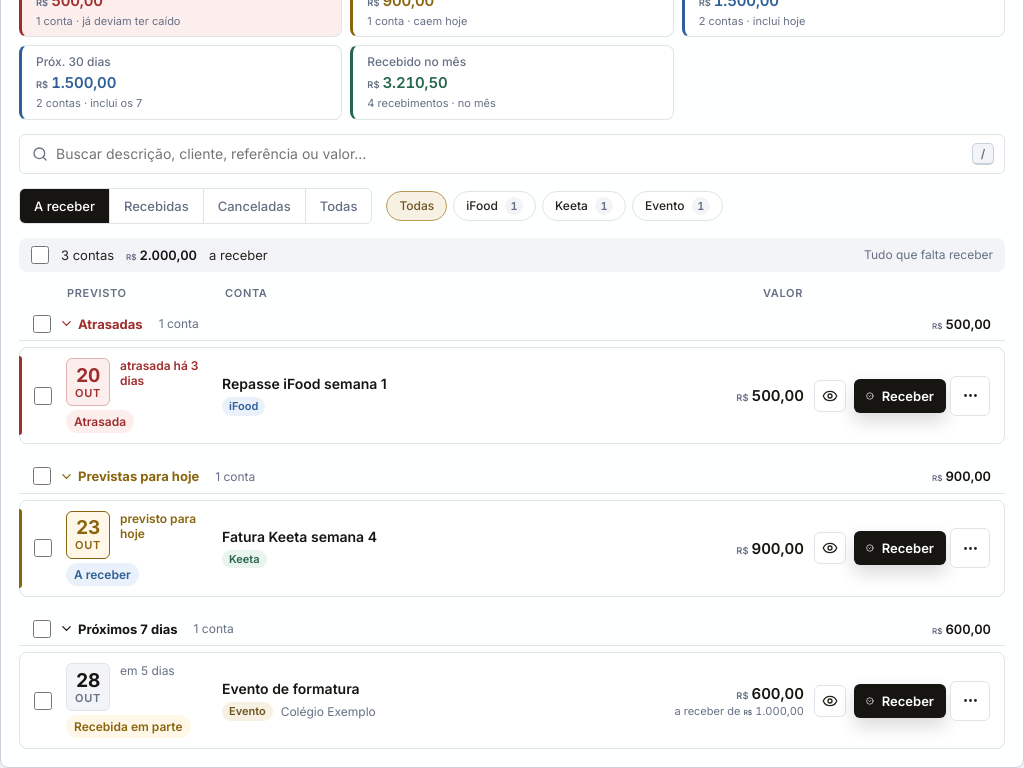
Test: Contas a Receber — registrar recebimento › a janela vem com o saldo, registra e recarrega a lista
(page scrolled)
expect the text "Evento de formatura" is shown: met, box x1=222 y1=680 x2=360 y2=697
Step 1. Click the button with aria-label "Receber Evento de formatura" → (900, 701), box x1=854 y1=684 x2=946 y2=718
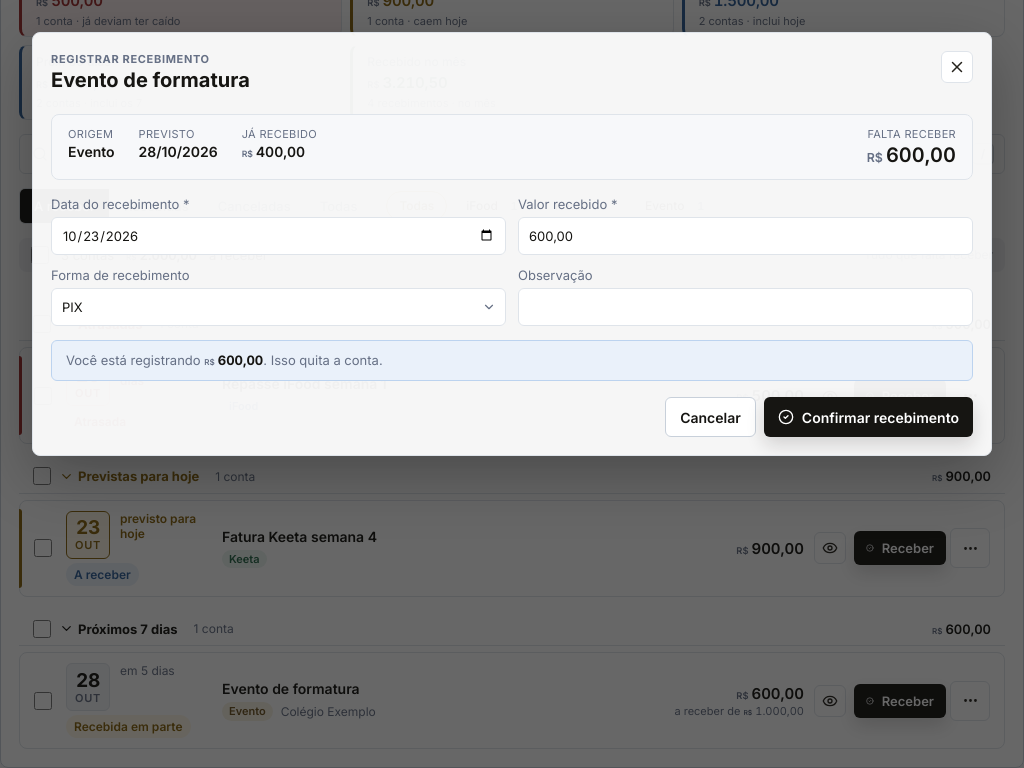
expect the field labelled "Valor recebido *" holds "600,00": met
expect the date field labelled "Data do recebimento *" holds "2026-10-23": met, box x1=51 y1=216 x2=506 y2=254
expect the text "Você está registrando R$600,00 . Isso quita a conta." is shown: met, box x1=51 y1=340 x2=973 y2=381
Step 2. Replace the text in the field labelled "Valor recebido *" with "300" → (746, 236), box x1=518 y1=216 x2=973 y2=254
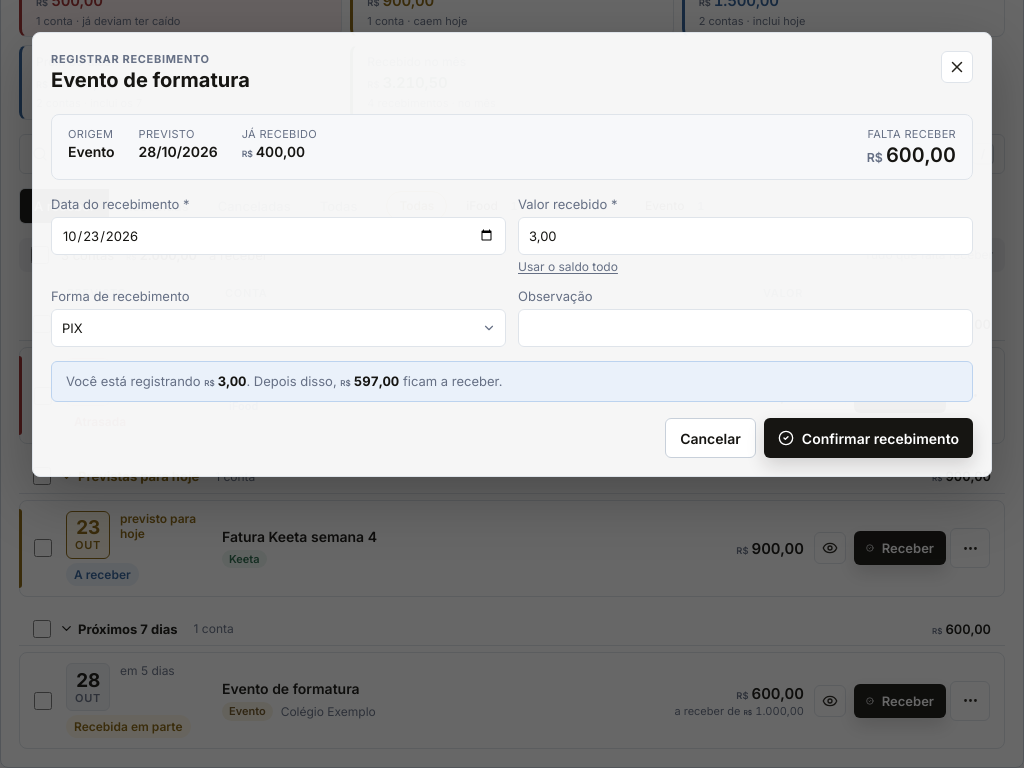
expect the text "ficam a receber" is shown: met, box x1=399 y1=372 x2=502 y2=388
Step 3. Replace the text in the field labelled "Valor recebido *" with "60000" → (746, 236), box x1=518 y1=216 x2=973 y2=254
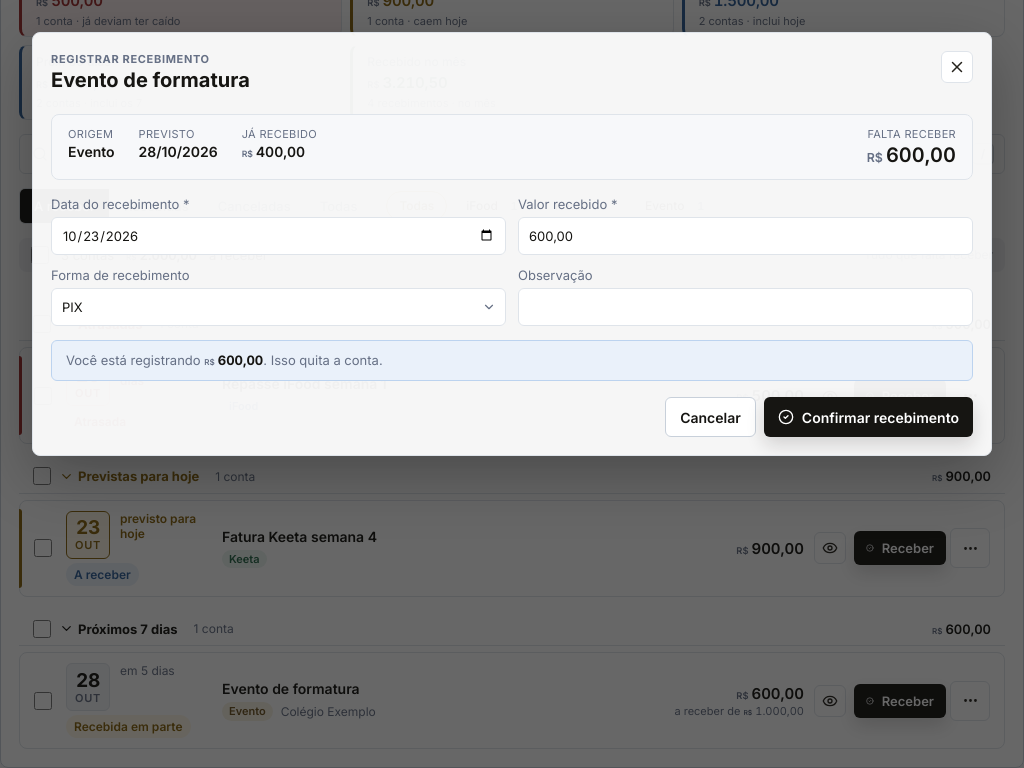
Step 4. Click the button "Confirmar recebimento" → (868, 417), box x1=764 y1=397 x2=973 y2=437
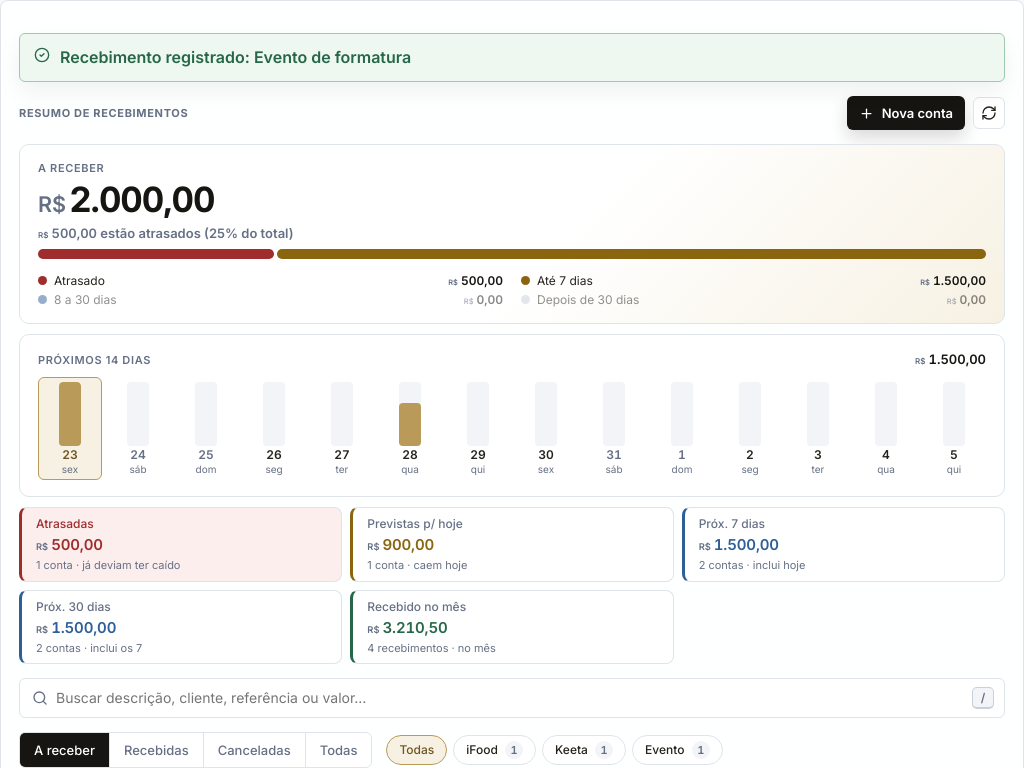
expect the text "Recebimento registrado: Evento de formatura" is shown: met, box x1=60 y1=46 x2=411 y2=69
expect the dialog is gone: met
